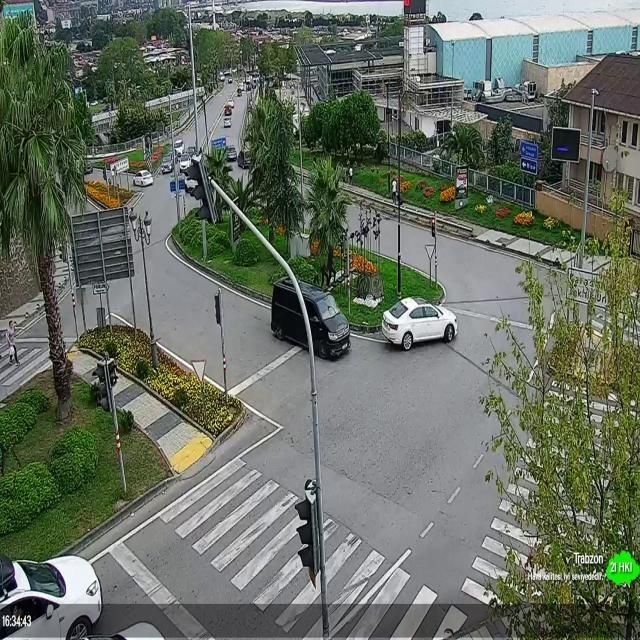Car: (0, 551, 106, 638), (381, 296, 458, 350), (132, 170, 153, 187), (159, 152, 174, 174), (178, 153, 192, 173), (237, 150, 250, 168), (174, 139, 186, 156), (226, 146, 237, 161), (224, 117, 232, 128), (224, 105, 232, 116), (226, 99, 235, 107)
Van: (269, 273, 350, 359)
